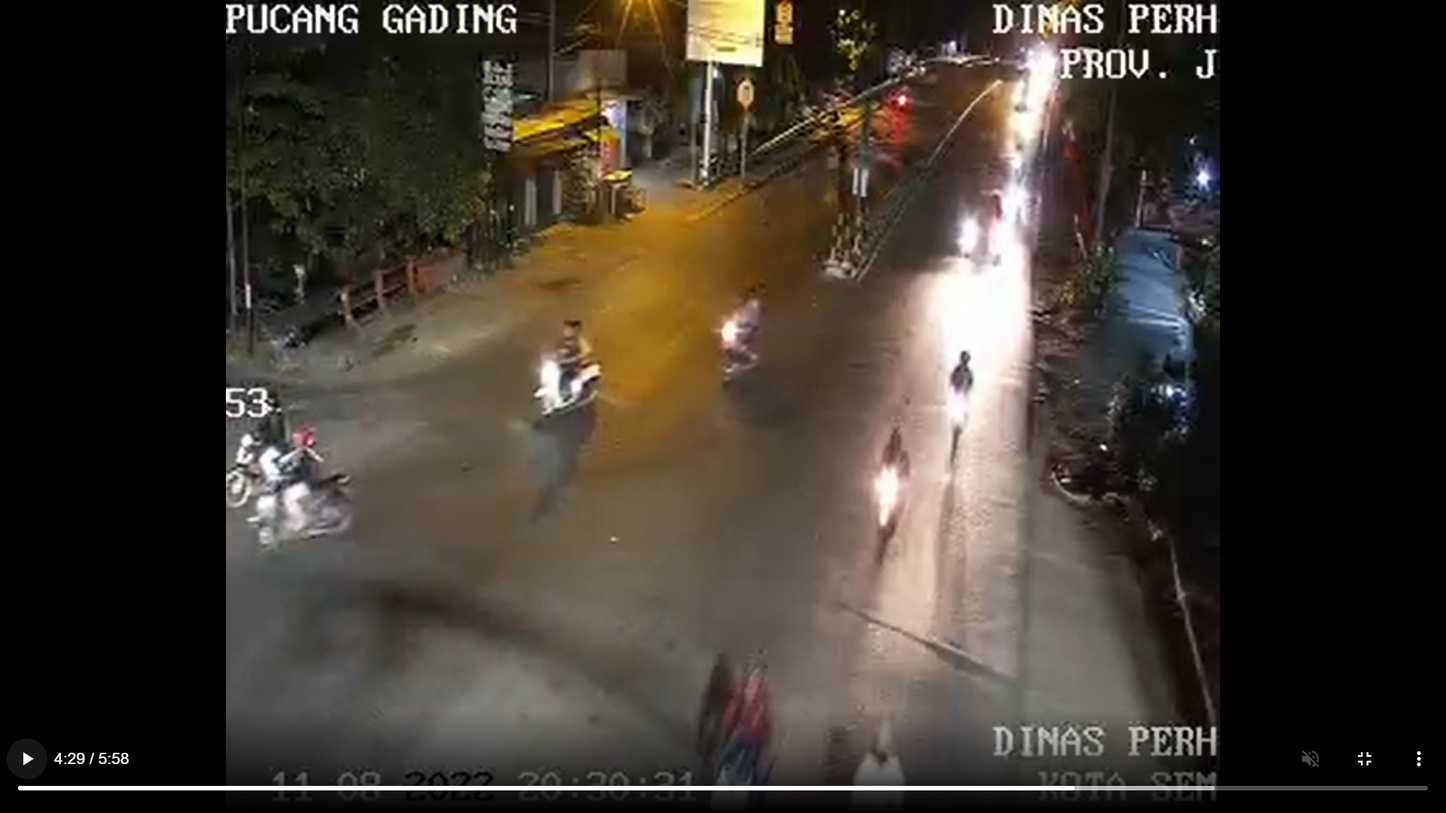without_helmet: (525, 306, 622, 427)
